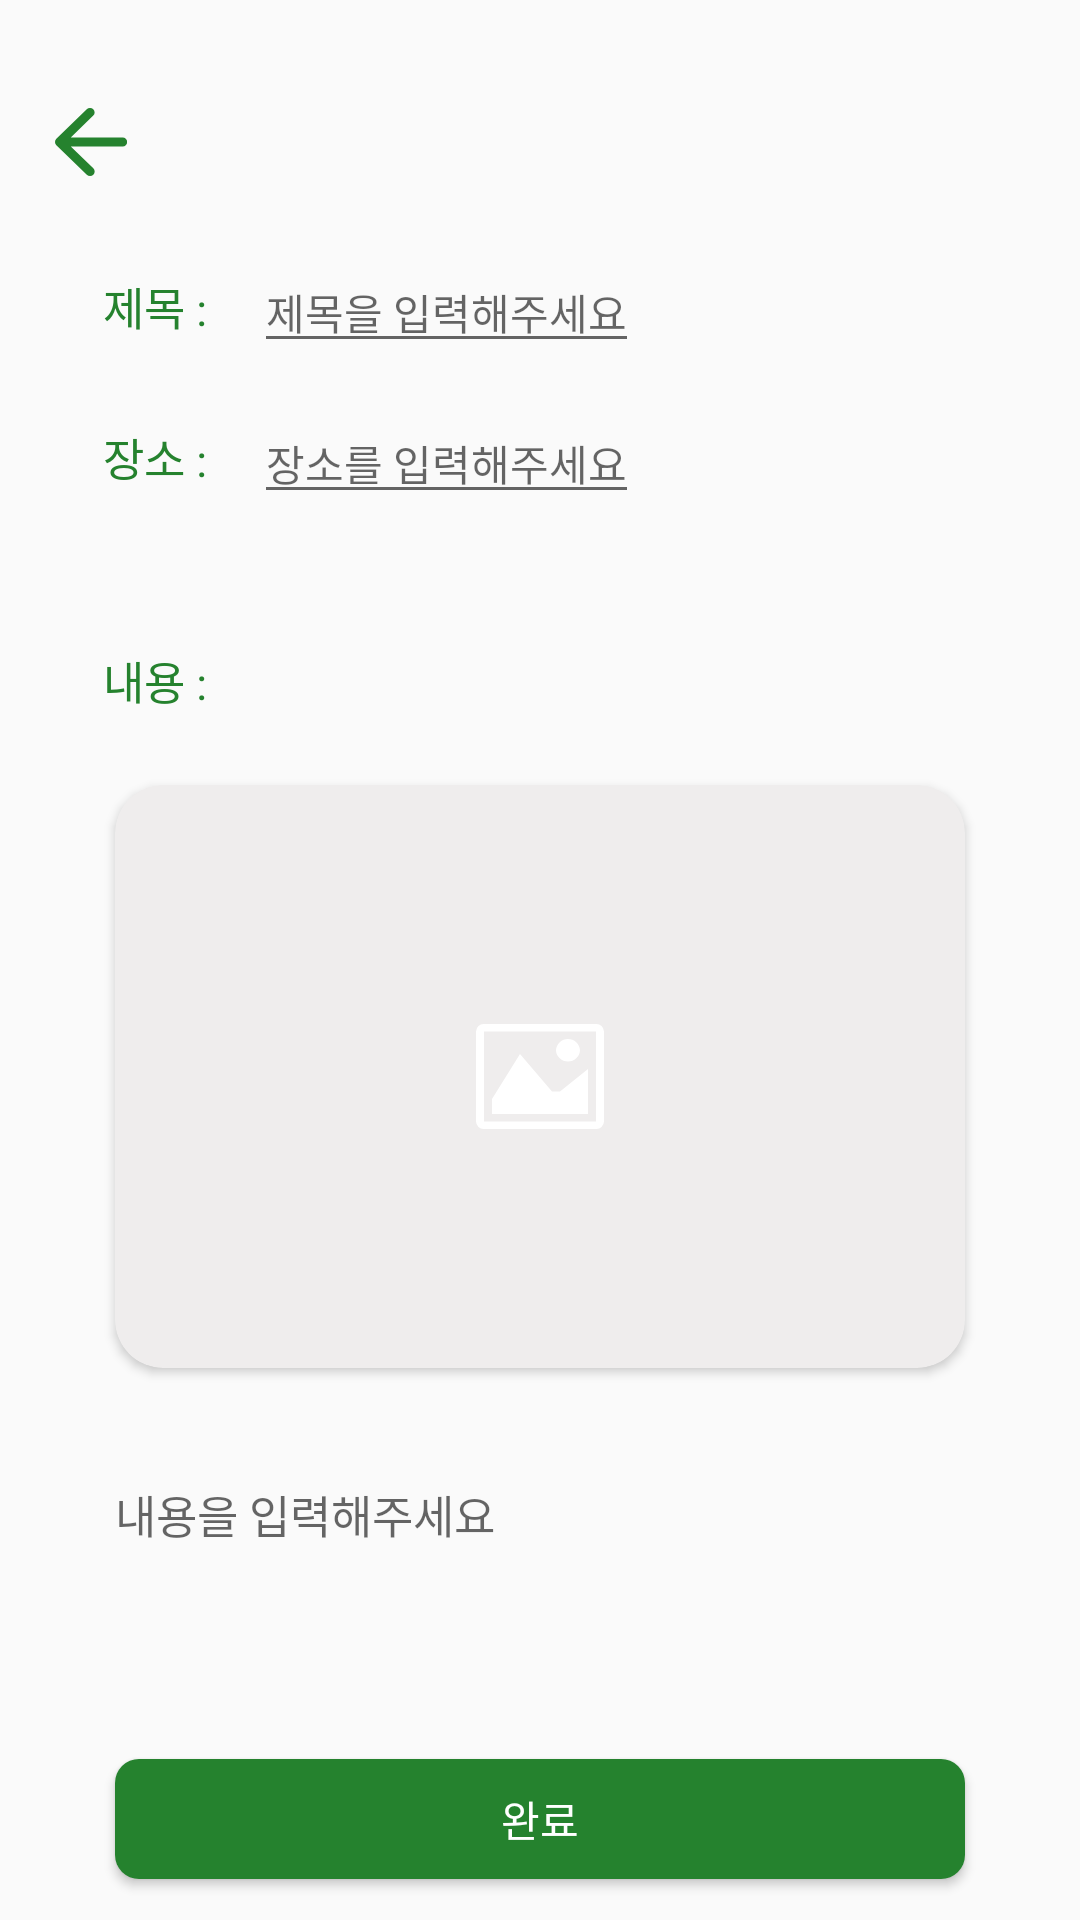

Locate icon controls on the screen. Image size 1080w x 1920h, boxes as (x1, y1, x2, y2).
back: (55, 108, 127, 176)
